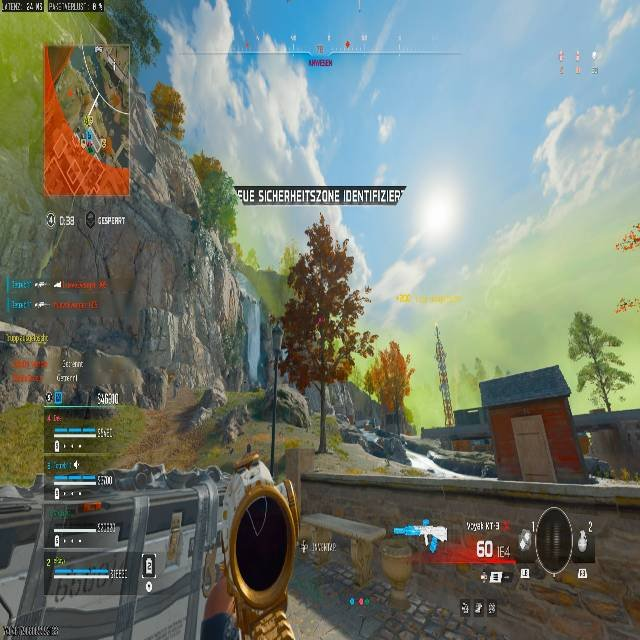head: (306, 220, 331, 255)
